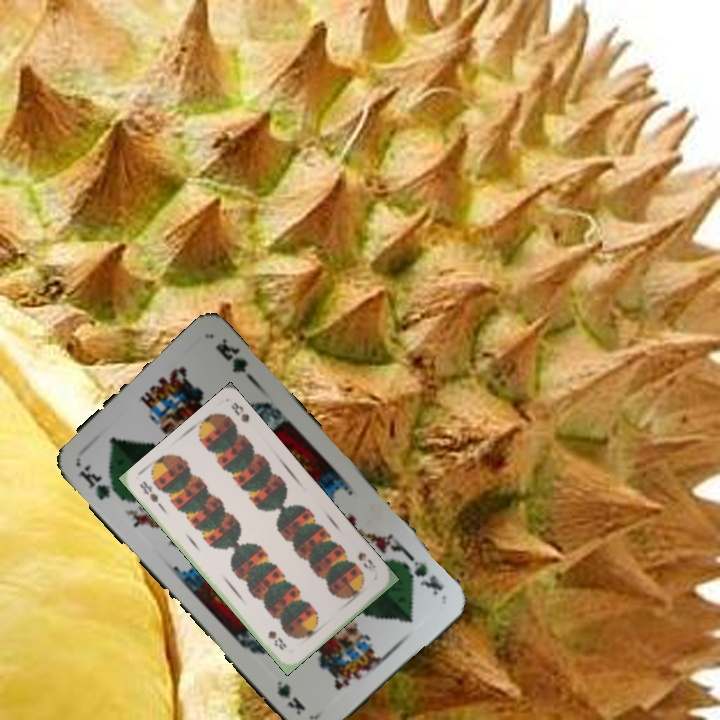GK: (74, 460, 123, 503), (404, 550, 446, 598)
S8: (135, 477, 167, 512), (354, 548, 381, 577)
